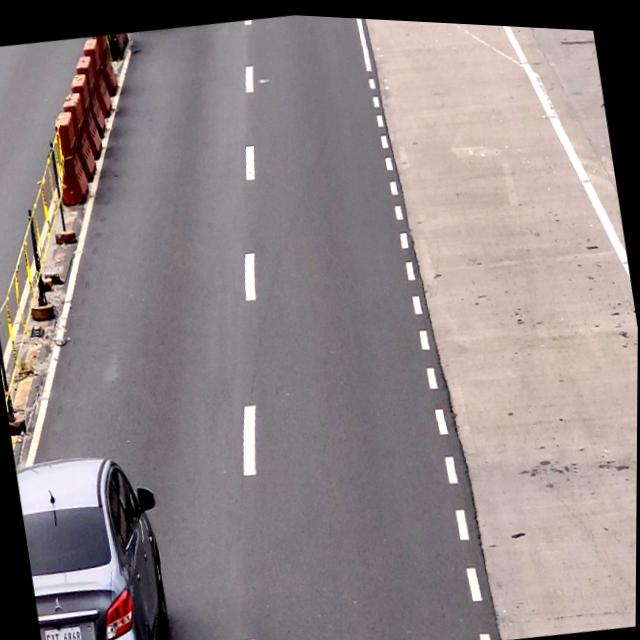Car: (15, 446, 178, 640)
License-Plate: (43, 619, 86, 640)
